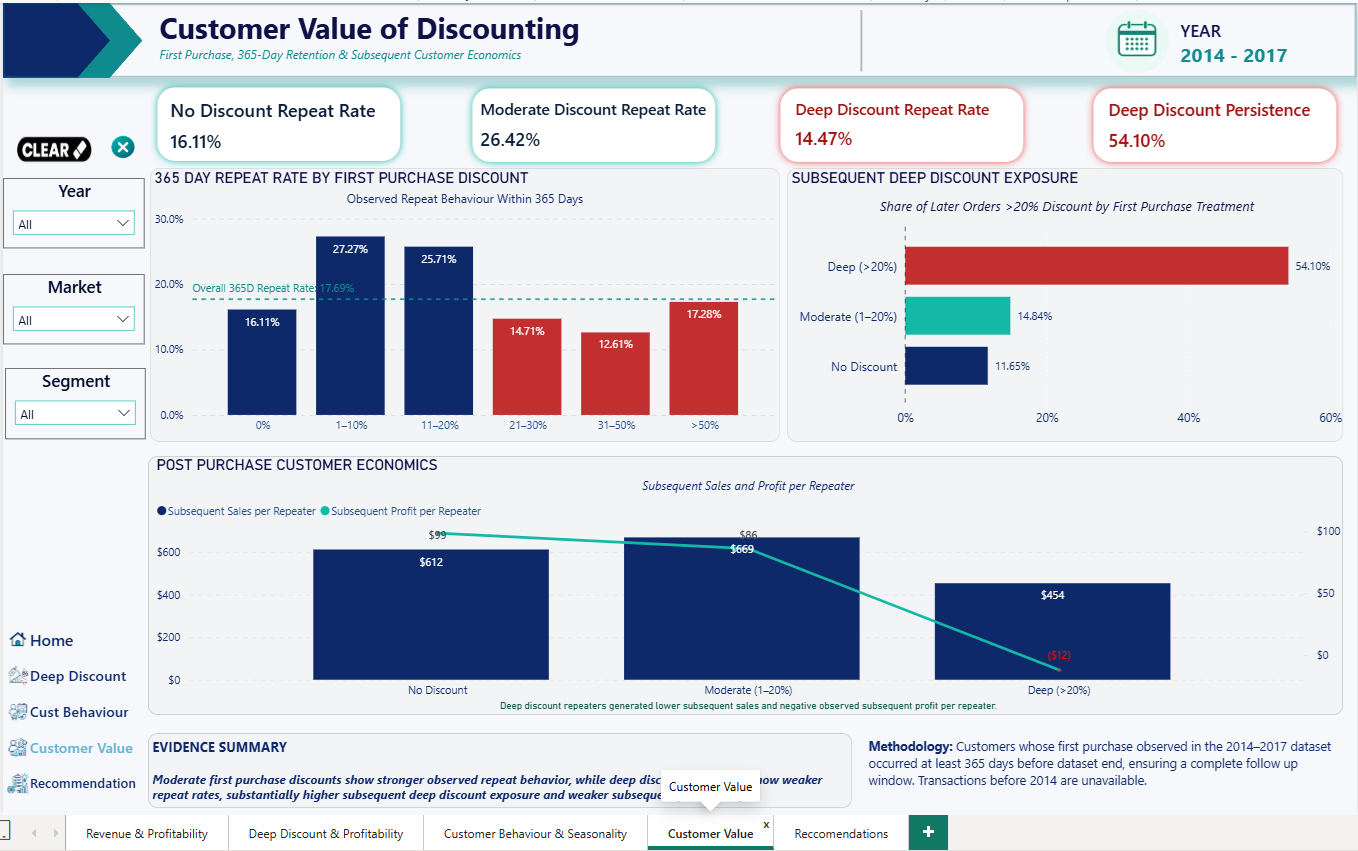

This screenshot's page, from the dashboard's own definition file:
{"tool":"powerbi","page":{"name":"Customer Value","canvas":[1500,900],"ordinal":3},"visuals":[{"type":"shape","box":[869,182.9,616.3,303.7],"z":0},{"type":"shape","box":[162.9,182.9,698.3,303.7],"z":1000},{"type":"slicer","title":"Year","fields":{"Values":["Customer.First Purchase Date"]},"box":[0,194.1,156.6,78],"z":1000,"group":"g1"},{"type":"slicer","title":"Market","fields":{"Values":["Customer.First Purchase Market"]},"box":[0,300.4,156.6,78],"z":2000,"group":"g1"},{"type":"shape","box":[160.7,809.1,780.3,83.1],"z":2000},{"type":"slicer","title":"Segment","fields":{"Values":["Customer.First Purchase Segment"]},"box":[2.3,404,155.7,79.1],"z":3000,"group":"g1"},{"type":"shape","box":[160.7,502.1,1324.5,287.1],"z":3000},{"type":"image","title":"Clear button","box":[107,138.1,50.9,42.3],"z":4000,"group":"g1"},{"type":"clusteredColumnChart","title":"365 DAY REPEAT RATE BY FIRST PURCHASE DISCOUNT","fields":{"Category":["Customer.First Purchase Discount Band"],"Y":["Customer.365D Repeat Rate"]},"box":[163,184,698.3,302.6],"z":4000},{"type":"textbox","box":[168.5,0,772.5,76.5],"z":5000},{"type":"image","box":[14.5,142.7,85.1,41.4],"z":5000,"group":"g1"},{"type":"shape","box":[0,0.4,127.4,83.2],"z":6000},{"type":"shape","box":[0,0,1500,82.8],"z":7000},{"type":"shape","box":[82.1,0.4,72.6,83.2],"z":8000},{"type":"shape","box":[906.3,7.8,89.5,68.4],"z":9000},{"type":"image","box":[1212.9,-0.5,91.6,90.5],"z":10000},{"type":"textbox","box":[1300.2,12.1,138.9,64.2],"z":11000},{"type":"shape","box":[163.3,85.6,285.6,97.8],"z":12000},{"type":"cardVisual","fields":{"Data":["Customer.No Discount Repeat Rate"]},"box":[168.9,93.8,280,81.1],"z":13000},{"type":"shape","box":[512.2,86.7,285.6,97.8],"z":14000},{"type":"cardVisual","fields":{"Data":["Customer.Moderate Discount Repeat Rate"]},"box":[512.1,94.2,341.4,80.9],"z":15000},{"type":"shape","box":[853.3,86.7,285.6,97.8],"z":16000},{"type":"cardVisual","fields":{"Data":["Customer.Deep Discount Repeat Rate"]},"box":[861.1,91,270,86.7],"z":17000},{"type":"shape","box":[1200,86.7,285.6,97.8],"z":18000},{"type":"cardVisual","fields":{"Data":["Customer.Deep Discount Persistence"]},"box":[1207.8,90.4,277.8,87.8],"z":19000},{"type":"lineClusteredColumnComboChart","title":"POST PURCHASE CUSTOMER ECONOMICS","fields":{"Category":["Customer.First Purchase Treatment"],"Y":["Customer.Subsequent Sales per Repeater"],"Y2":["Customer.Subsequent Profit per Repeater"]},"box":[164.6,501.9,1322,287],"z":20000},{"type":"clusteredBarChart","title":"SUBSEQUENT DEEP DISCOUNT EXPOSURE","fields":{"Category":["Customer.First Purchase Treatment"],"Y":["Customer.Subsequent Deep Discount Share"]},"box":[869,184,620.7,302.6],"z":21000},{"type":"textbox","box":[160.7,809.1,763.7,83.1],"z":22000},{"type":"textbox","box":[954.3,809.1,530.9,83.1],"z":23000},{"type":"actionButton","box":[0,684.4,161.1,40],"z":24000},{"type":"actionButton","box":[0,724.4,161.1,40],"z":25000},{"type":"actionButton","box":[0,764.4,161.1,40],"z":26000},{"type":"actionButton","box":[0,804.4,161.1,40],"z":27000},{"type":"actionButton","box":[0,844.4,161.1,40],"z":28000},{"type":"group","id":"g1","title":"Group 1","box":[0,138.1,157.7,422.5],"z":34000}]}

Visuals, with their boxes on the page's 1500x900 design canvas (x1, y1, x2, y2). These are canvas units, not pixel positions in the 1358x851 screenshot, which may show the page scaled, cropped or inside an application window:
shape: (x1=869, y1=183, x2=1485, y2=487)
shape: (x1=163, y1=183, x2=861, y2=487)
"Year" slicer: (x1=0, y1=194, x2=157, y2=272)
"Market" slicer: (x1=0, y1=300, x2=157, y2=378)
shape: (x1=161, y1=809, x2=941, y2=892)
"Segment" slicer: (x1=2, y1=404, x2=158, y2=483)
shape: (x1=161, y1=502, x2=1485, y2=789)
"Clear button" image: (x1=107, y1=138, x2=158, y2=180)
"365 DAY REPEAT RATE BY FIRST PURCHASE DISCOUNT" clusteredColumnChart: (x1=163, y1=184, x2=861, y2=487)
textbox: (x1=168, y1=0, x2=941, y2=76)
image: (x1=14, y1=143, x2=100, y2=184)
shape: (x1=0, y1=0, x2=127, y2=84)
shape: (x1=0, y1=0, x2=1500, y2=83)
shape: (x1=82, y1=0, x2=155, y2=84)
shape: (x1=906, y1=8, x2=996, y2=76)
image: (x1=1213, y1=0, x2=1304, y2=90)
textbox: (x1=1300, y1=12, x2=1439, y2=76)
shape: (x1=163, y1=86, x2=449, y2=183)
cardVisual - Customer.No Discount Repeat Rate: (x1=169, y1=94, x2=449, y2=175)
shape: (x1=512, y1=87, x2=798, y2=184)
cardVisual - Customer.Moderate Discount Repeat Rate: (x1=512, y1=94, x2=854, y2=175)
shape: (x1=853, y1=87, x2=1139, y2=184)
cardVisual - Customer.Deep Discount Repeat Rate: (x1=861, y1=91, x2=1131, y2=178)
shape: (x1=1200, y1=87, x2=1486, y2=184)
cardVisual - Customer.Deep Discount Persistence: (x1=1208, y1=90, x2=1486, y2=178)
"POST PURCHASE CUSTOMER ECONOMICS" lineClusteredColumnComboChart: (x1=165, y1=502, x2=1487, y2=789)
"SUBSEQUENT DEEP DISCOUNT EXPOSURE" clusteredBarChart: (x1=869, y1=184, x2=1490, y2=487)
textbox: (x1=161, y1=809, x2=924, y2=892)
textbox: (x1=954, y1=809, x2=1485, y2=892)
actionButton: (x1=0, y1=684, x2=161, y2=724)
actionButton: (x1=0, y1=724, x2=161, y2=764)
actionButton: (x1=0, y1=764, x2=161, y2=804)
actionButton: (x1=0, y1=804, x2=161, y2=844)
actionButton: (x1=0, y1=844, x2=161, y2=884)
"Group 1" group: (x1=0, y1=138, x2=158, y2=561)
